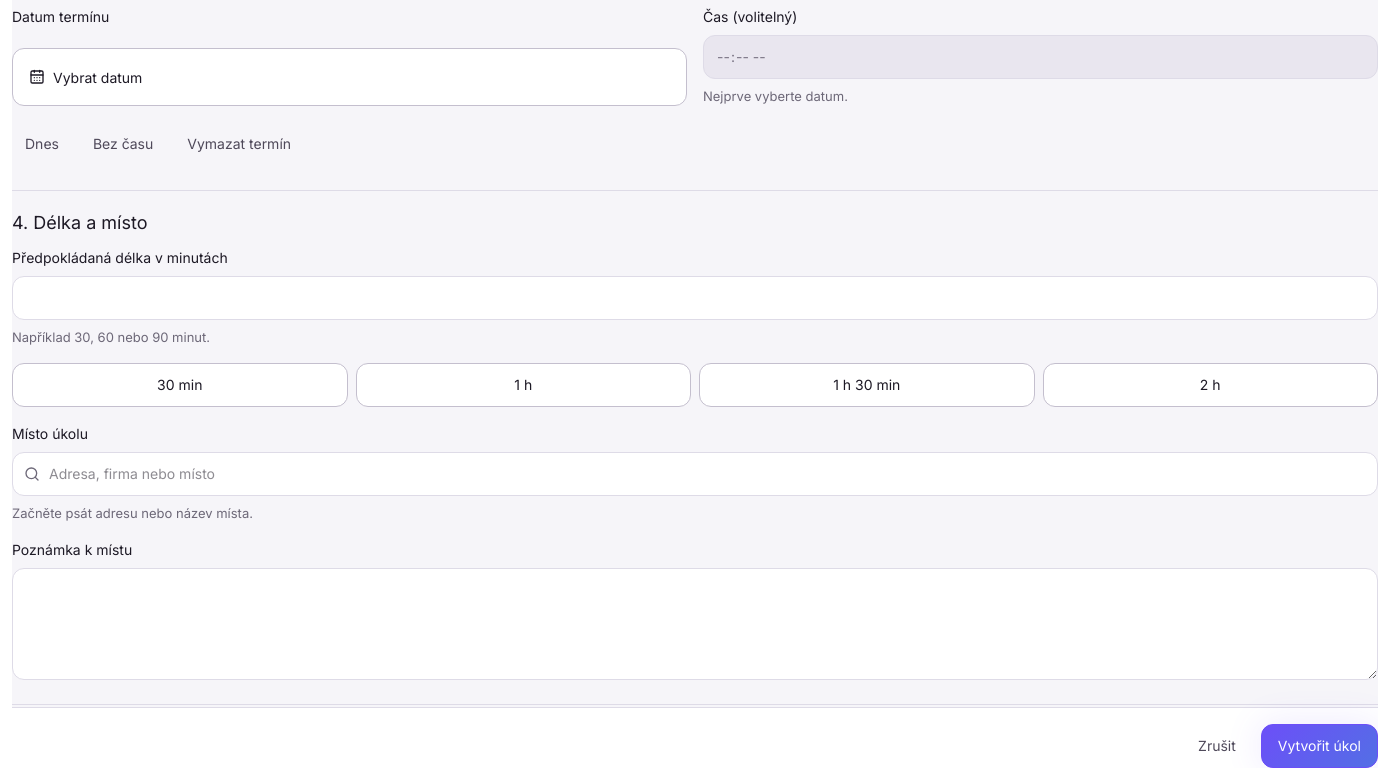
Scenario: agenda frontend › sets duration preset 1 h without submitting
(page scrolled)
Click the button "1 h" at (523, 385), box x1=356 y1=363 x2=691 y2=407
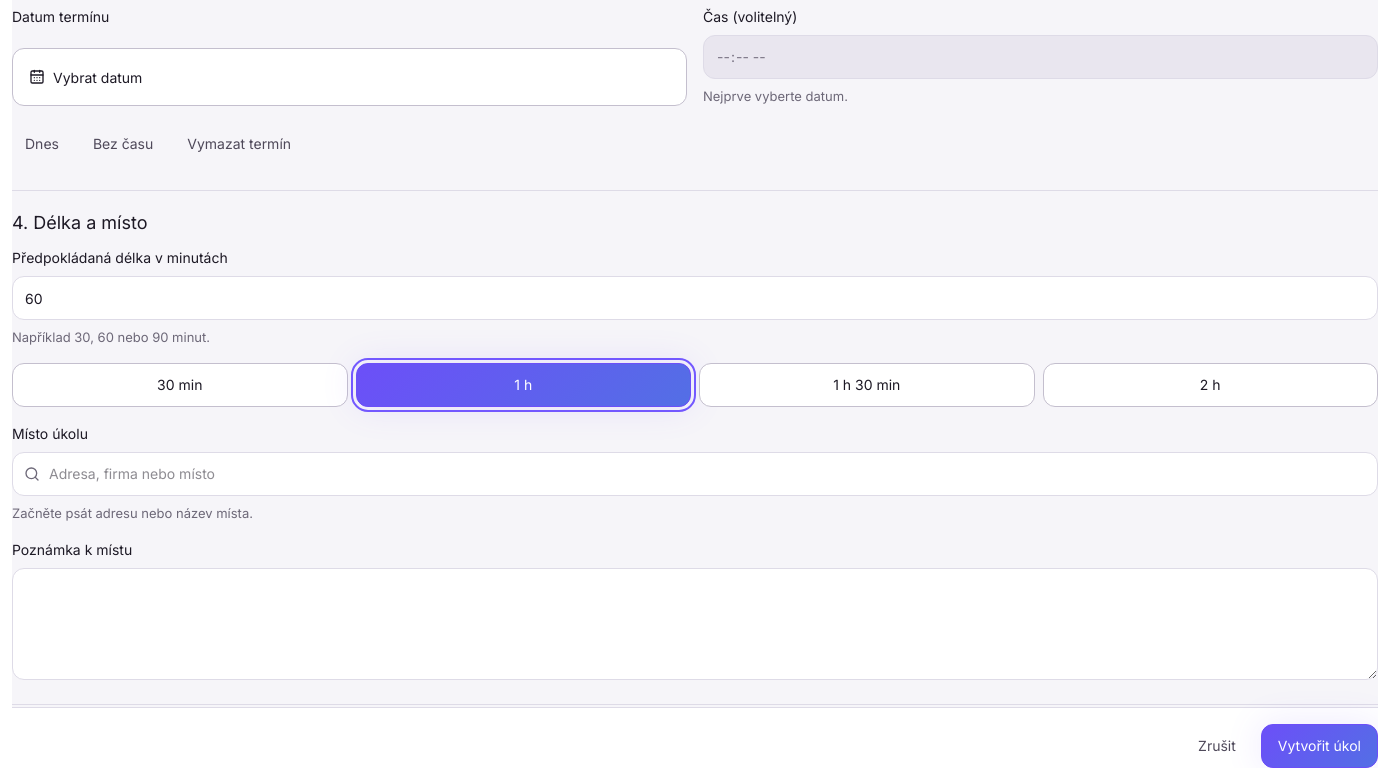
Now the number field labelled "Předpokládaná délka v minutách" holds "60", box x1=12 y1=276 x2=1378 y2=320
